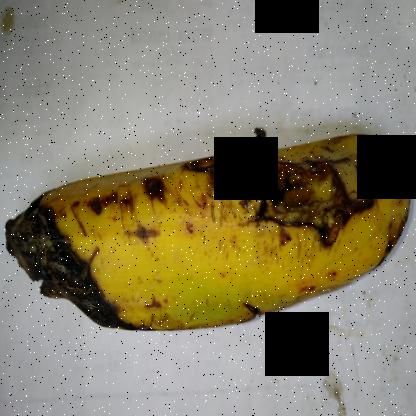ripe: (118, 111, 414, 353)
rotten: (1, 154, 141, 350), (180, 133, 376, 245)
